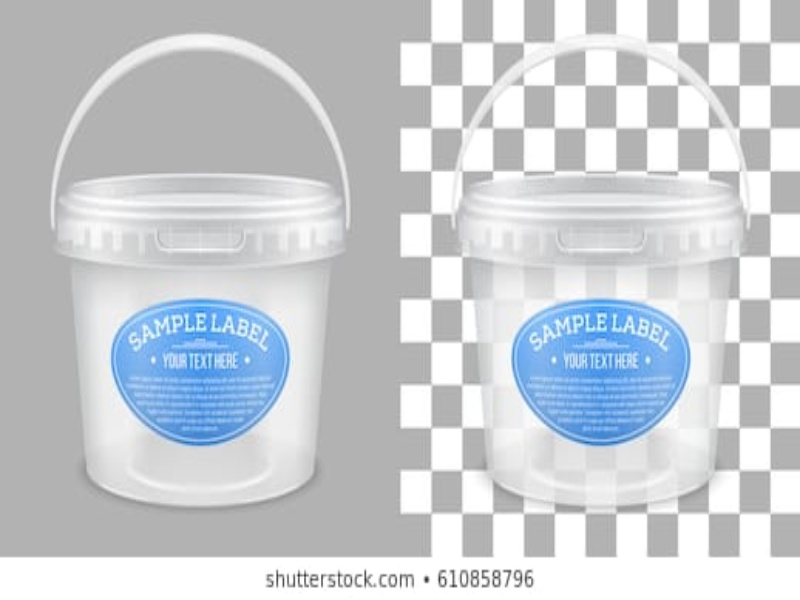plastic-container: (52, 169, 350, 509), (463, 172, 749, 509)
